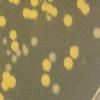yellow: (62, 54, 74, 73), (68, 43, 81, 60), (40, 73, 52, 88), (41, 56, 51, 74), (28, 7, 40, 22), (62, 13, 73, 28), (79, 3, 91, 16), (7, 28, 18, 42), (8, 74, 18, 89), (0, 14, 9, 30), (50, 83, 61, 96), (0, 79, 10, 93), (21, 7, 31, 21), (91, 26, 100, 41), (9, 40, 20, 52), (48, 50, 57, 64), (49, 6, 59, 18), (29, 36, 39, 48), (2, 70, 12, 81), (75, 0, 87, 9), (40, 0, 49, 12), (28, 0, 41, 8), (10, 52, 18, 65), (44, 3, 53, 14), (4, 62, 13, 73), (22, 47, 30, 58), (44, 14, 53, 23), (15, 48, 23, 58), (6, 48, 13, 58), (0, 89, 6, 100), (12, 0, 21, 7), (1, 36, 8, 45), (20, 43, 27, 51), (6, 0, 15, 5), (47, 0, 55, 3)
